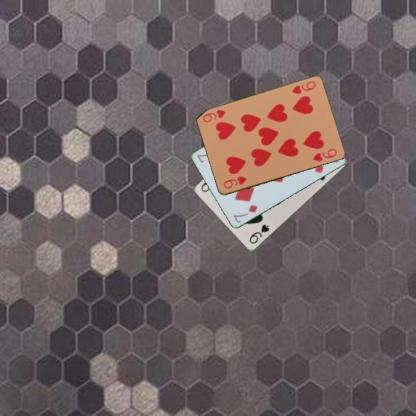7d: (231, 201, 260, 224)
9h: (289, 78, 317, 96), (221, 174, 248, 190)
9s: (246, 222, 271, 245)
